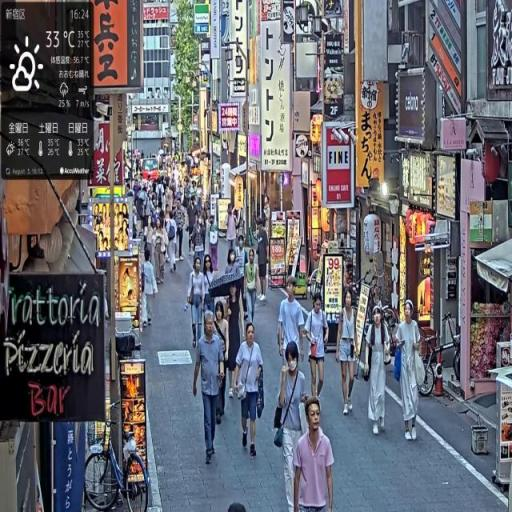person: (274, 340, 313, 512), (193, 312, 227, 469), (293, 397, 335, 512), (393, 299, 426, 444), (235, 324, 265, 461), (363, 307, 393, 439), (337, 288, 359, 421), (306, 292, 330, 408), (278, 277, 306, 372), (212, 301, 231, 425), (226, 283, 247, 392), (187, 258, 208, 351), (243, 248, 261, 335), (255, 217, 272, 304), (152, 220, 168, 289), (176, 197, 188, 263)
